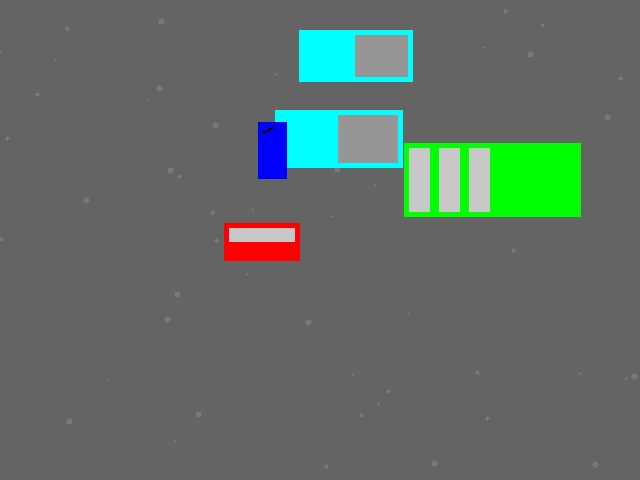bus: (404, 143, 580, 216)
car: (224, 223, 299, 260)
motorcycle: (258, 122, 286, 178)
truck: (275, 110, 402, 167), (299, 30, 412, 81)
